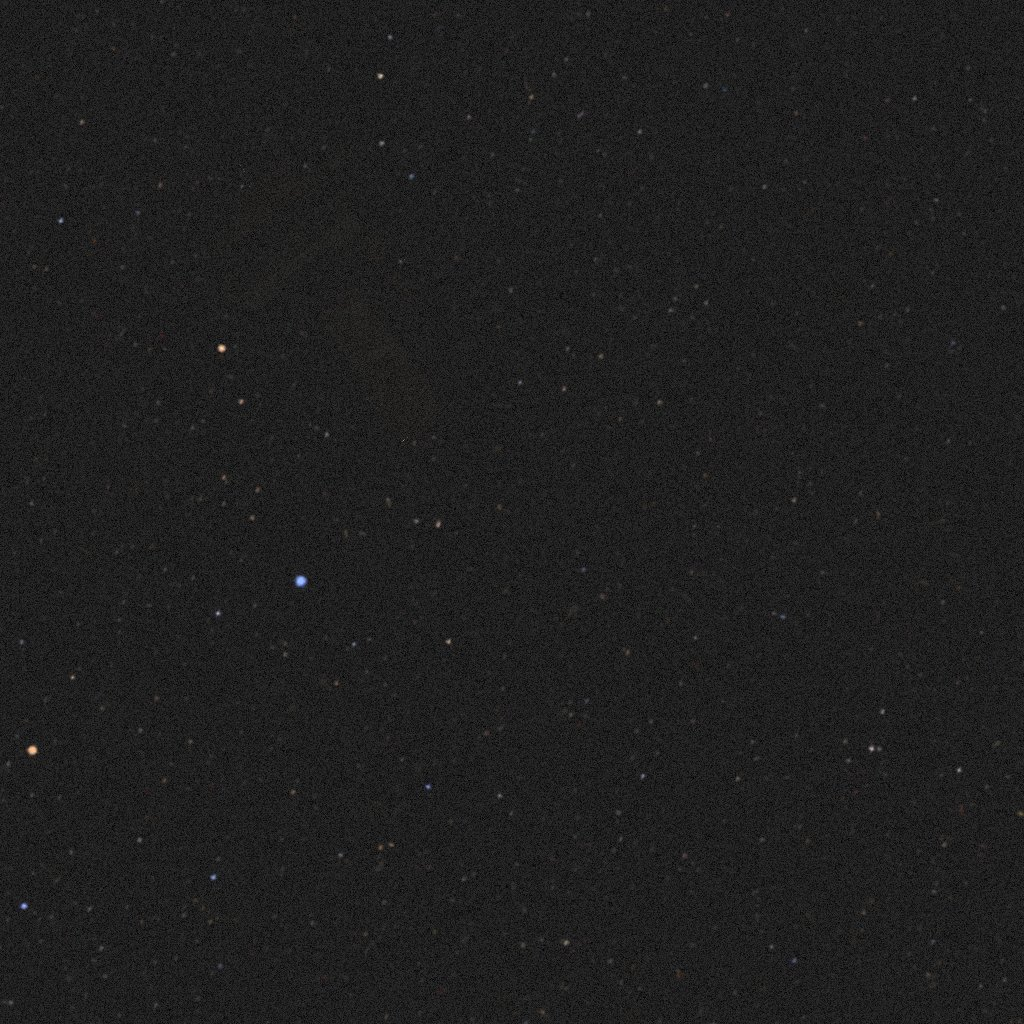soho: (189, 141, 480, 451)
